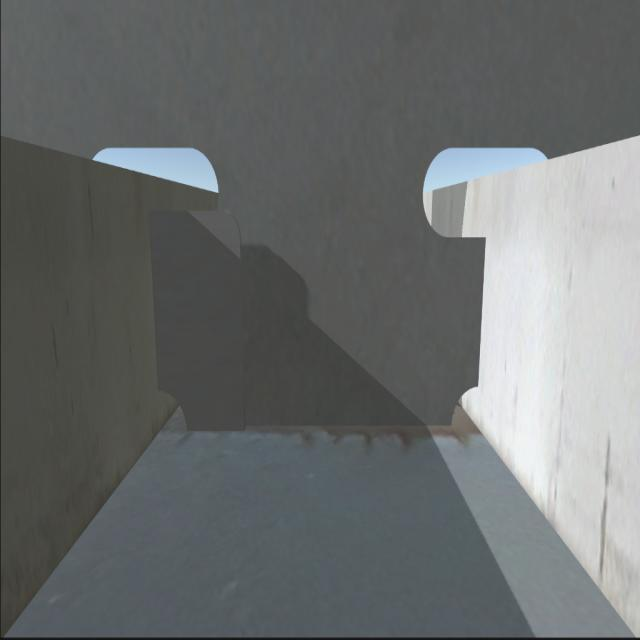fillet_hole: (151, 389, 192, 431), (447, 384, 481, 434)
fillet_yong_jeop_jang: (187, 424, 459, 443)
longi_yong_jeop_jang: (144, 209, 165, 384), (478, 228, 490, 387)
